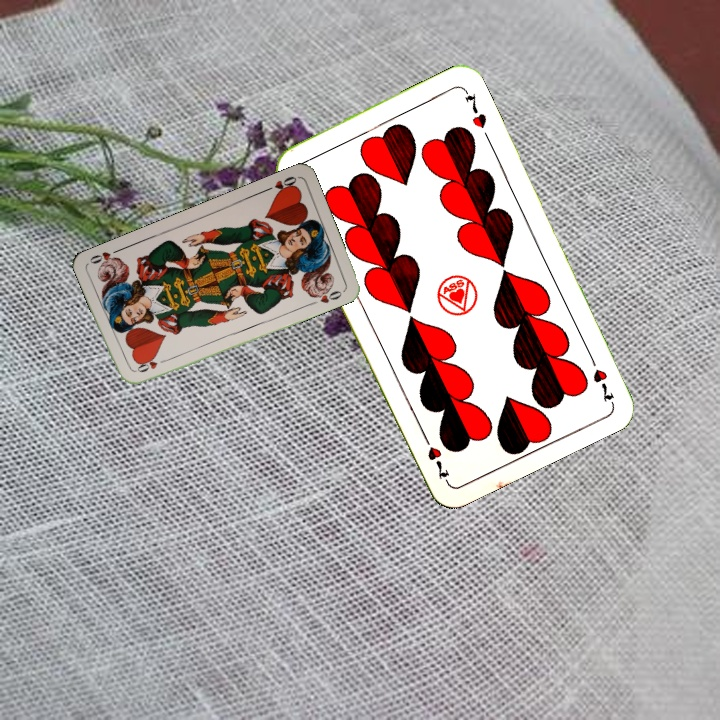H7: (584, 349, 617, 405)
HO: (261, 172, 299, 197), (131, 355, 170, 375)
